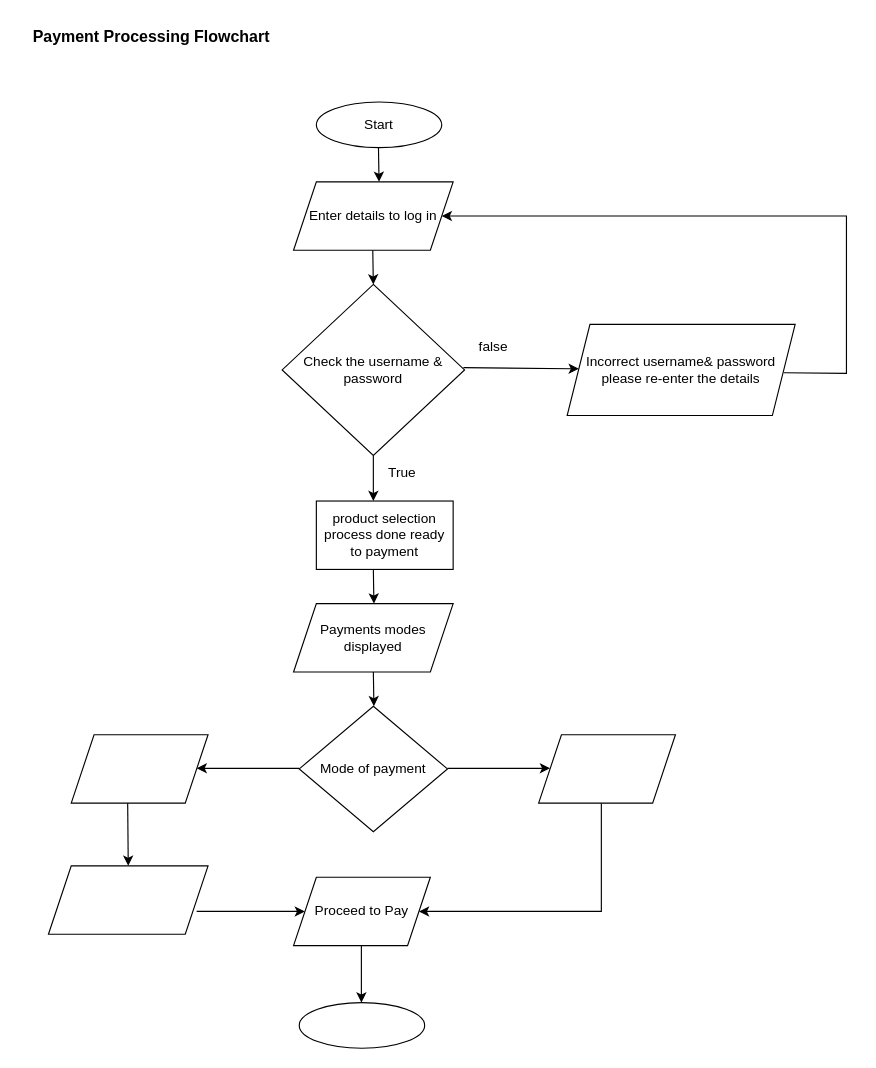
Image size: 876x1068. Some labels were removed from this diagram. Here are the shapes that lost their labels. From the top down, the centre of each, then its label:
At (x=139, y=768): "card payment".
At (x=606, y=768): "Cash on delivery".
At (x=127, y=899): "enter card details and authorized pin".
At (x=361, y=1024): "Stop".
